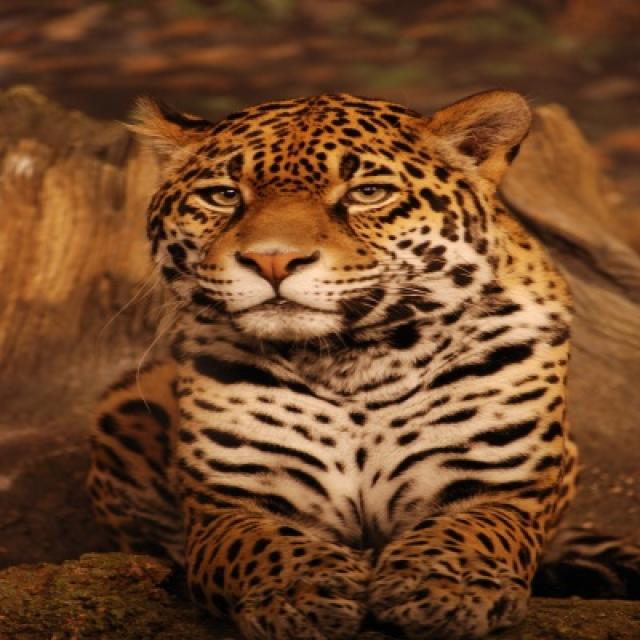not_pig: (84, 85, 638, 638)
